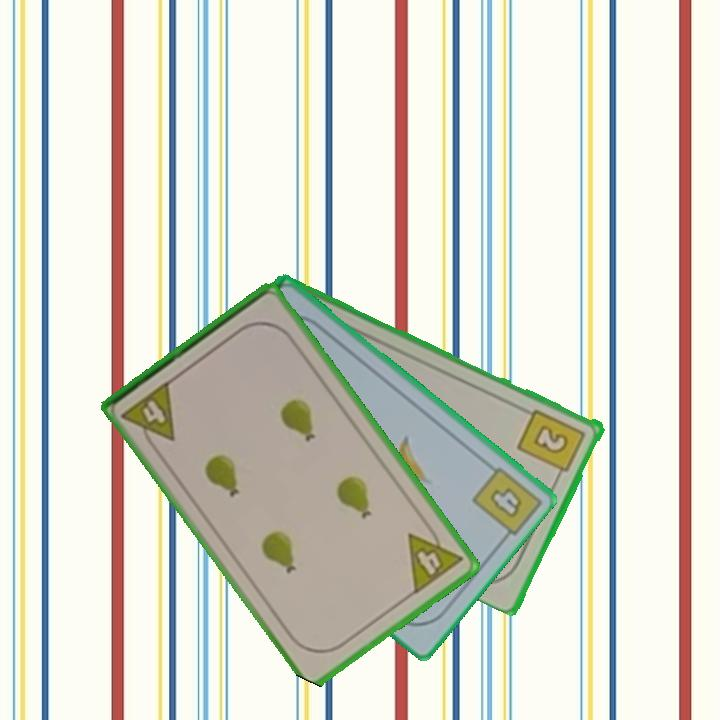2b: (514, 405, 589, 482)
4b: (486, 483, 526, 522)
4p: (404, 518, 466, 597), (118, 377, 179, 454)
